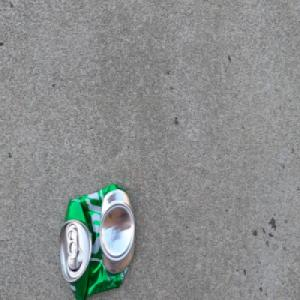SodaCan: (58, 183, 135, 300)
